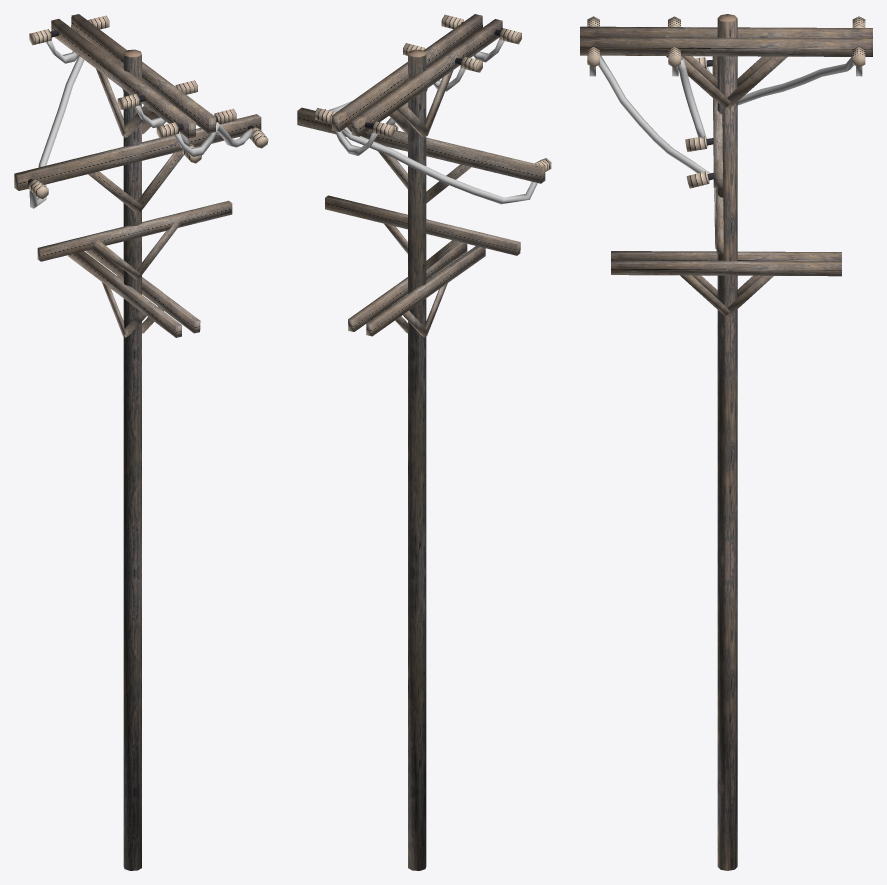
File: PowerPoleJuct.fbx
3 renders of one model, left to right at view 1: azimuth 30°, elevation 25°; view 2: azimuth 150°, elevation 25°; view 3: azimuth 270°, elevation 25°, orthographic. The views are drawn at different scales.
Parts seen in each view (by area): view 1: main0, pole0, wires0; view 2: main0, pole0, wires0; view 3: main0, pole0, wires0.
Boxes of the visible parts, x1,y1,x2,y2 form: main0: (14, 14, 268, 337); pole0: (123, 49, 141, 870); wires0: (29, 40, 253, 208); main0: (297, 14, 551, 337); pole0: (408, 49, 426, 870); wires0: (328, 38, 537, 204); main0: (580, 16, 872, 316); pole0: (717, 14, 737, 870); wires0: (589, 55, 862, 173).
Bounding box in the file's own units: 2.91 × 9.3 × 2.91.
